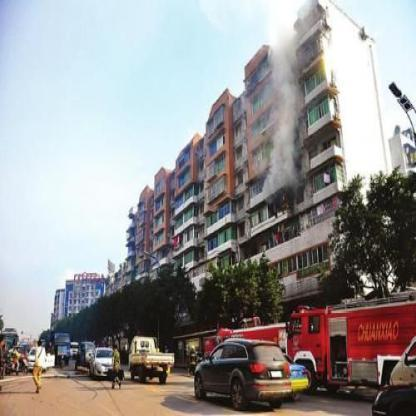smoke: (270, 15, 294, 89), (281, 89, 295, 158), (268, 145, 283, 192)
